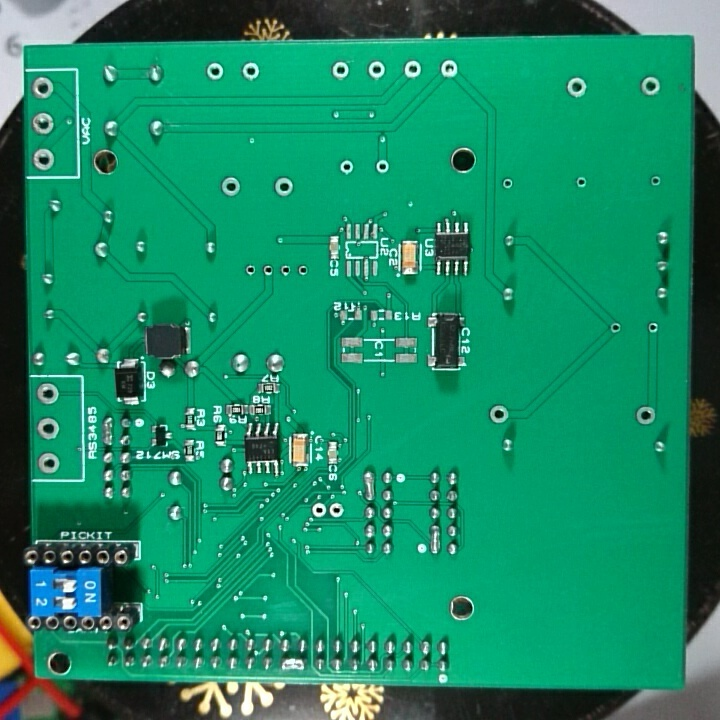F: (30, 143, 59, 172), (270, 172, 297, 201), (35, 415, 64, 441), (33, 381, 61, 407), (31, 109, 56, 138), (219, 172, 244, 200), (29, 75, 57, 100), (486, 400, 509, 430), (36, 449, 62, 475), (436, 54, 460, 82), (564, 75, 590, 100), (401, 58, 424, 86), (633, 402, 657, 428), (329, 58, 352, 83), (366, 56, 387, 83), (640, 74, 661, 100), (241, 60, 263, 84), (204, 60, 227, 82), (336, 155, 356, 178), (326, 499, 347, 520), (373, 156, 393, 176), (308, 498, 327, 519), (277, 259, 293, 282), (644, 318, 661, 339), (501, 175, 518, 196), (259, 260, 276, 280), (647, 171, 664, 190), (294, 260, 310, 280), (573, 174, 590, 191), (242, 262, 259, 279), (608, 320, 623, 338)
P: (277, 656, 312, 674), (101, 415, 116, 449), (427, 522, 441, 558), (362, 469, 376, 502)
